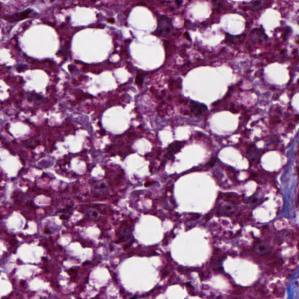steatosis: (182, 63, 232, 103), (175, 172, 219, 214), (169, 224, 213, 266), (116, 254, 162, 291), (19, 22, 60, 60), (70, 26, 111, 63), (100, 102, 138, 133), (221, 256, 260, 284)
